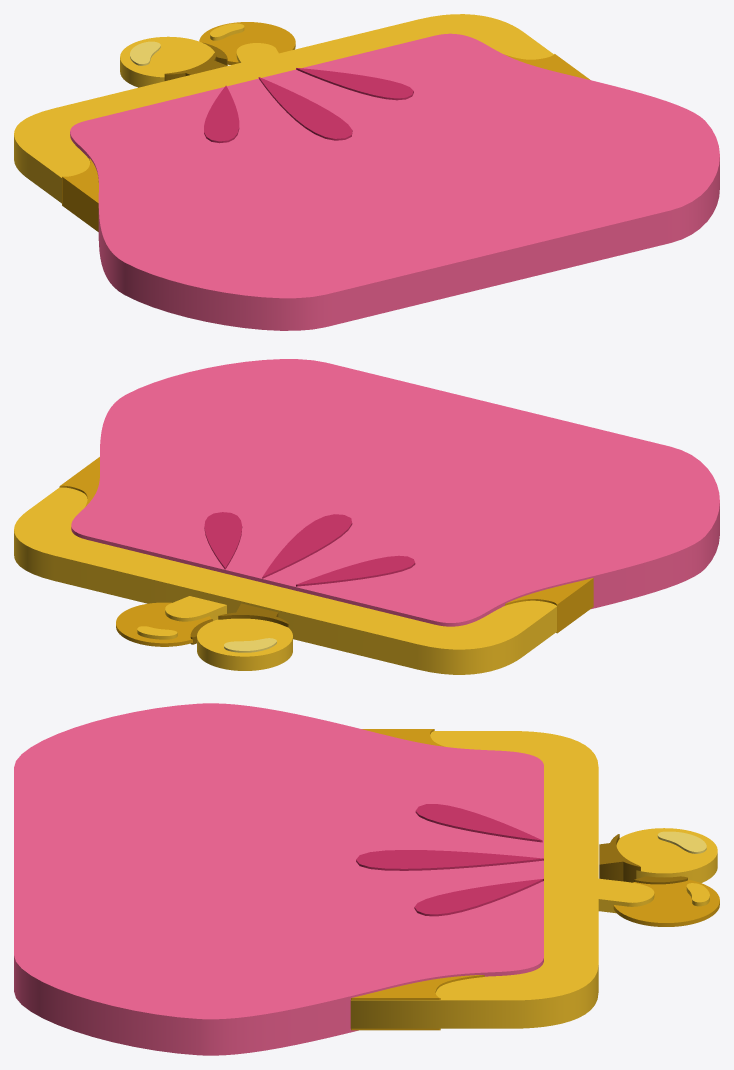
File: emoji_u1f45b.glb
The picture shows the model from 3 angles, top to bottom: view 1: azimuth 30°, elevation 25°; view 2: azimuth 150°, elevation 25°; view 3: azimuth 270°, elevation 25°; orthographic projection. The views are drawn at different scales.
Parts seen in each view (by area): view 1: emoji_u1f45b; view 2: emoji_u1f45b; view 3: emoji_u1f45b.
Part boxes in pixels (bbox=[...]): emoji_u1f45b: bbox=[14, 14, 719, 330]; emoji_u1f45b: bbox=[14, 359, 719, 674]; emoji_u1f45b: bbox=[14, 703, 719, 1055].
Bounding box in the file's own units: 0.0336 × 0.002 × 0.0317.
